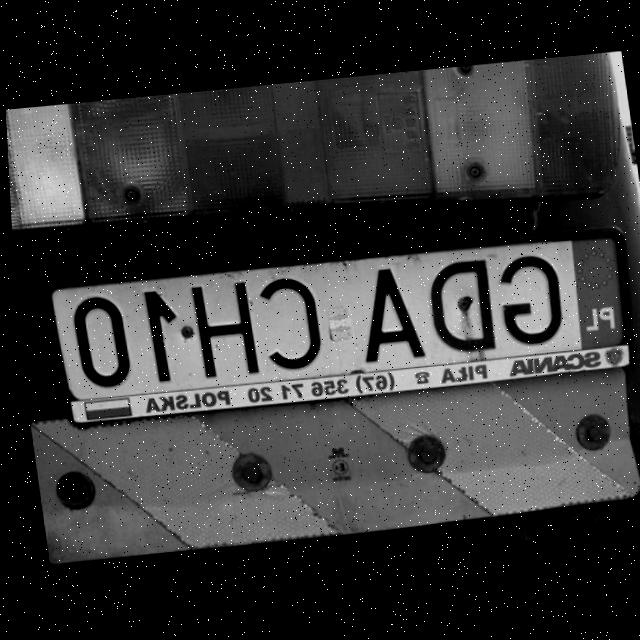license-plates: (50, 236, 625, 403)
